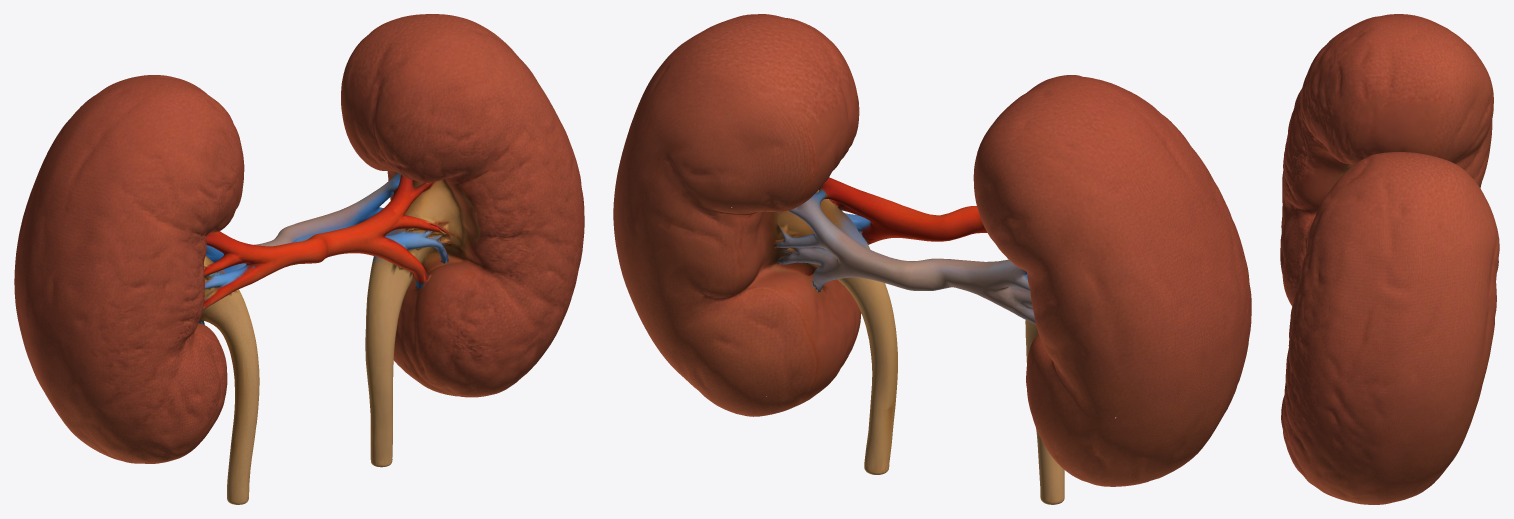
Rendered from kidneys.glb.
The picture shows the model from 3 angles, left to right: view 1: azimuth 30°, elevation 25°; view 2: azimuth 150°, elevation 25°; view 3: azimuth 270°, elevation 25°; orthographic projection. The views are drawn at different scales.
Parts seen in each view (by area): view 1: tripo_node_e5de9656-5b36-4996-8f10-3690a202b494; view 2: tripo_node_e5de9656-5b36-4996-8f10-3690a202b494; view 3: tripo_node_e5de9656-5b36-4996-8f10-3690a202b494.
Boxes of the visible parts, <box> form: tripo_node_e5de9656-5b36-4996-8f10-3690a202b494: <box>14,14,584,504</box>; tripo_node_e5de9656-5b36-4996-8f10-3690a202b494: <box>613,14,1251,504</box>; tripo_node_e5de9656-5b36-4996-8f10-3690a202b494: <box>1280,14,1499,504</box>.
Size of the model in its own units: 0.9794 by 0.7198 by 0.3718.
1 material, 1 textured.
